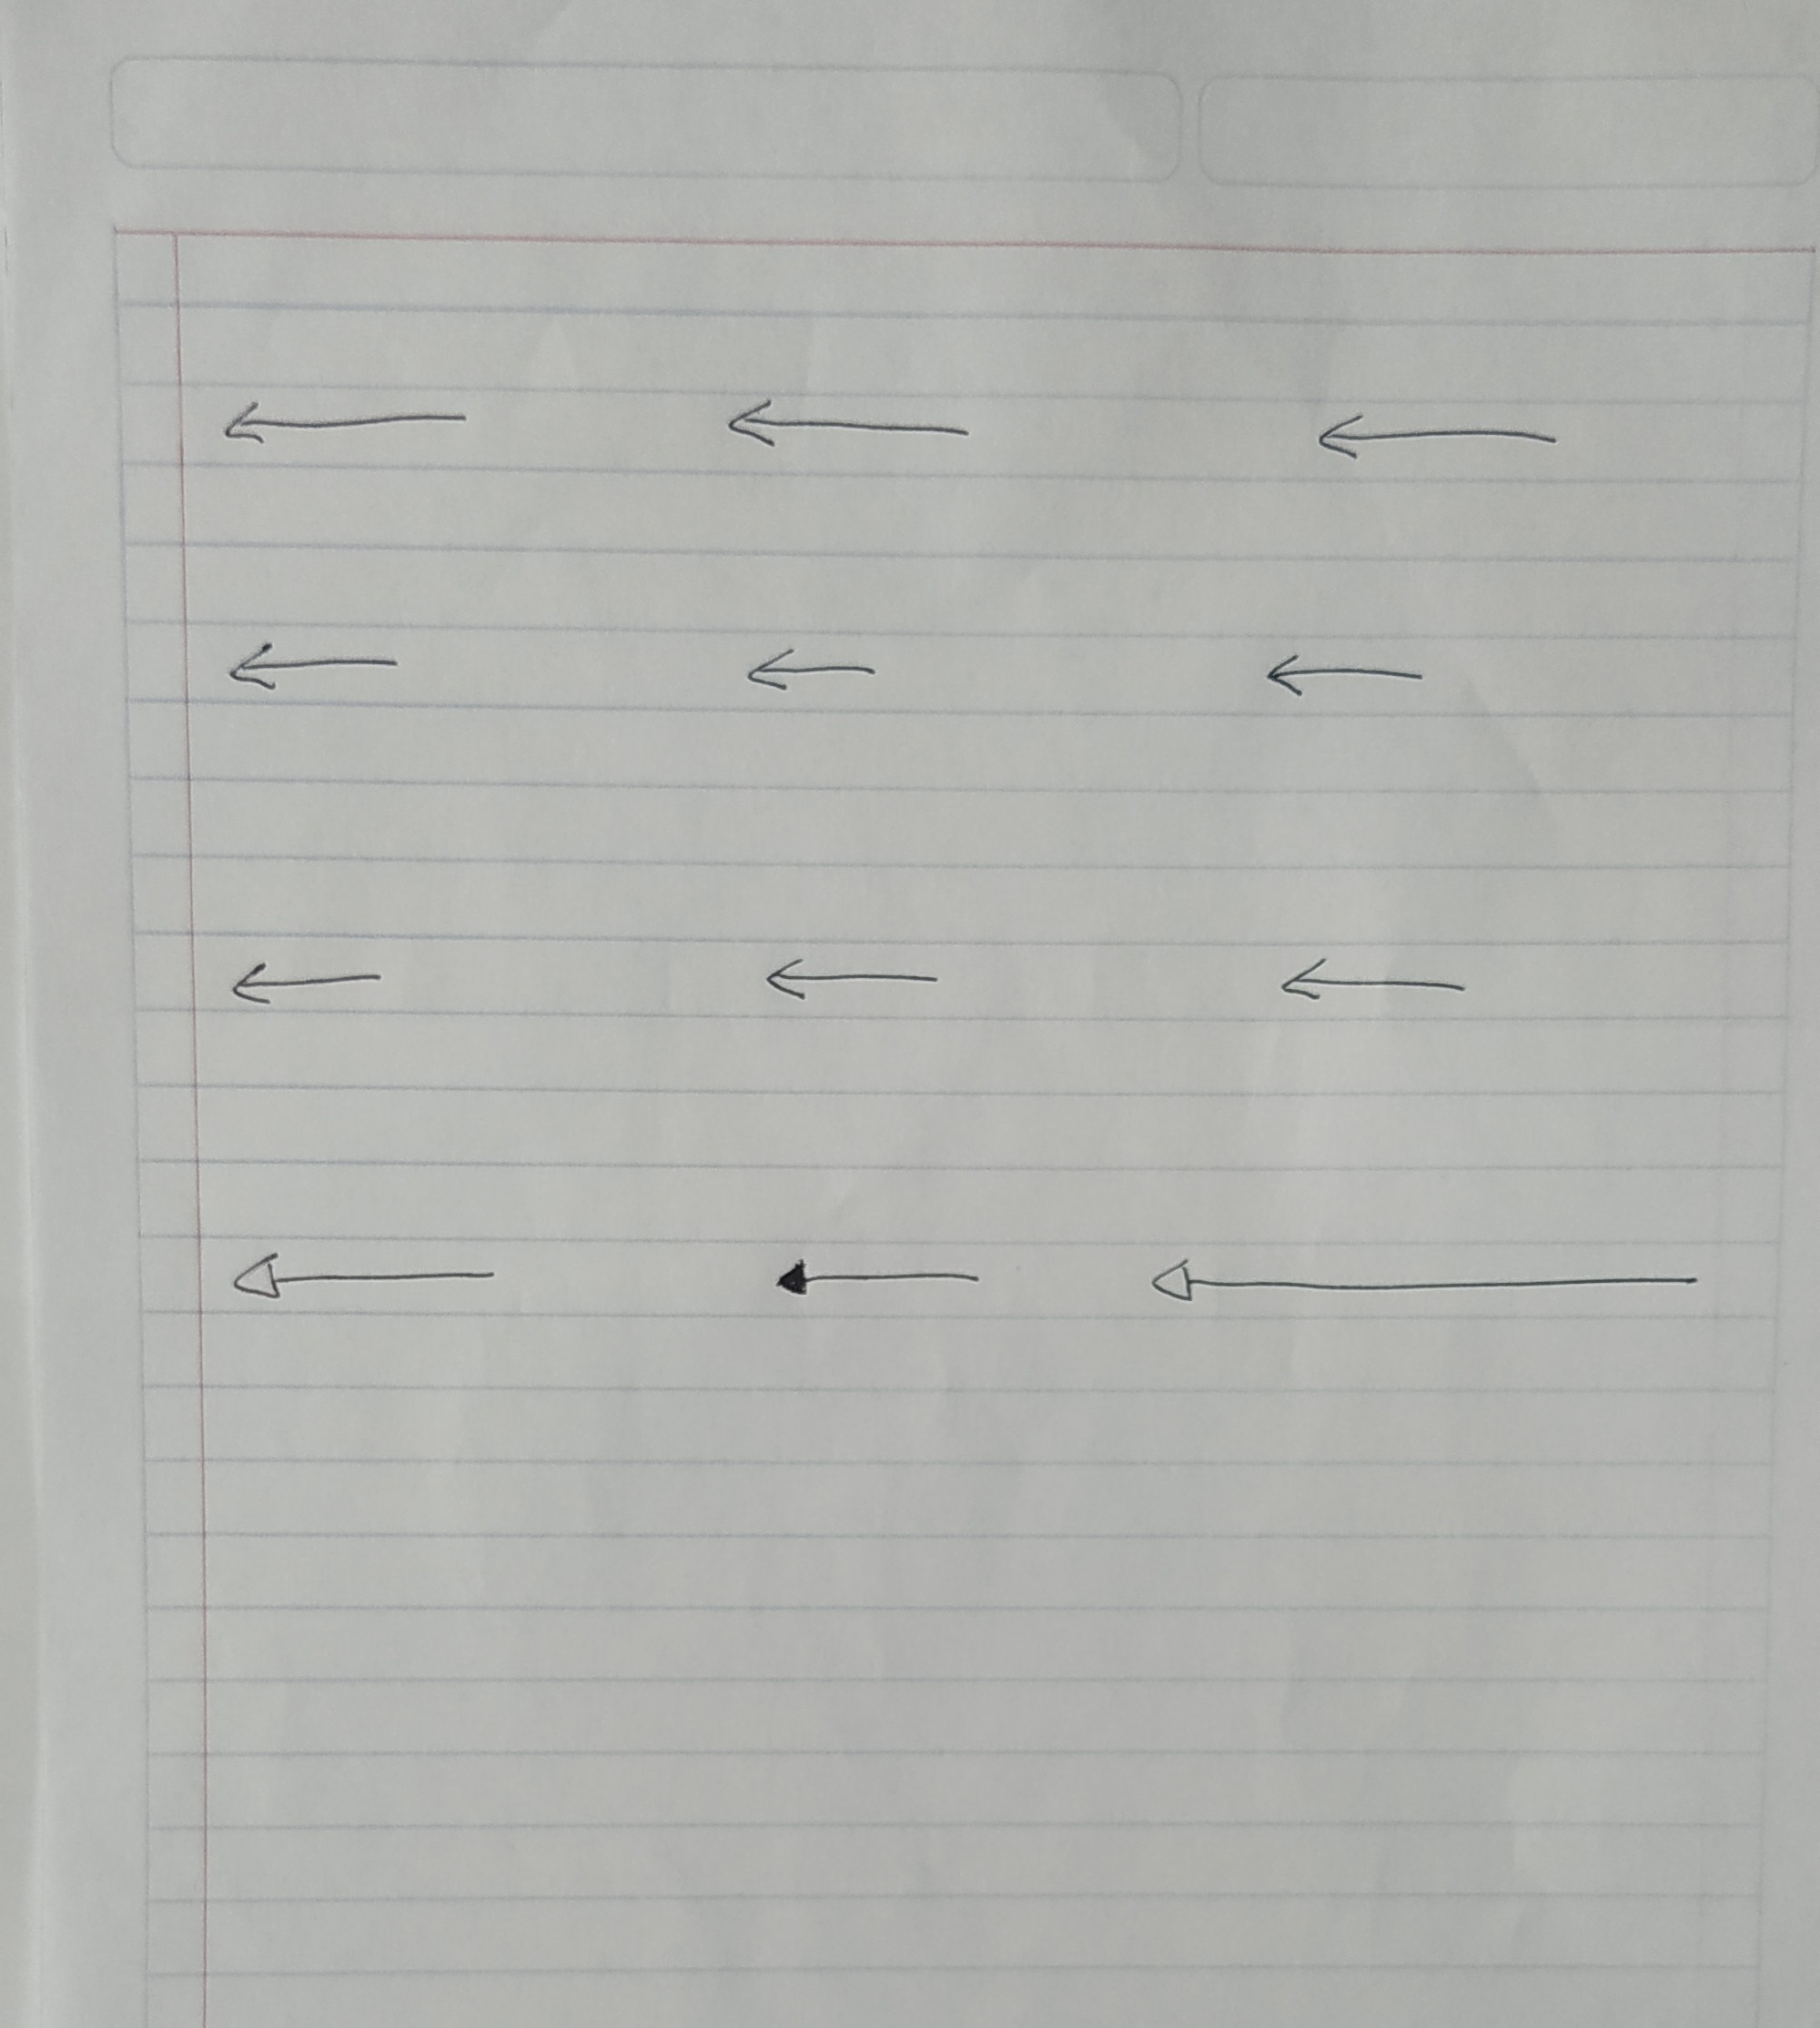arrow_line_left: (1138, 1241, 1709, 1313), (1311, 397, 1565, 476), (724, 385, 973, 462), (223, 1243, 501, 1312), (214, 390, 469, 453), (1274, 939, 1476, 1015), (754, 939, 947, 1010), (221, 632, 406, 704), (762, 1250, 993, 1303), (1258, 641, 1435, 704), (740, 634, 884, 702), (221, 952, 390, 1010)
